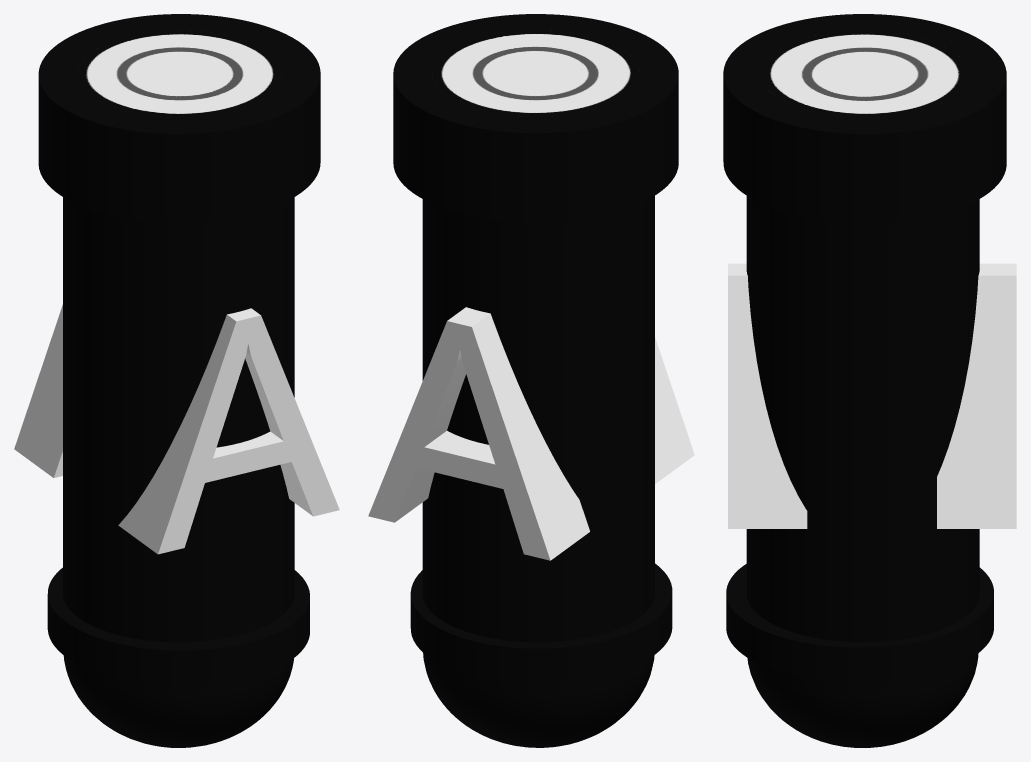
File: Multiple Choice A.fbx
3 renders of one model, left to right at view 1: azimuth 30°, elevation 25°; view 2: azimuth 150°, elevation 25°; view 3: azimuth 270°, elevation 25°, orthographic.
Parts seen in each view (by area): view 1: node_id32, node_id34, node_id95, node_id36, node_id30, node_id110; view 2: node_id32, node_id34, node_id110, node_id36, node_id30, node_id95; view 3: node_id32, node_id34, node_id110, node_id36, node_id95, node_id30.
Part boxes in pixels (x1,y1,x2,y2): node_id32: [63, 197, 294, 692]; node_id34: [38, 14, 320, 222]; node_id95: [118, 308, 339, 554]; node_id36: [47, 567, 309, 685]; node_id30: [63, 655, 293, 747]; node_id110: [14, 304, 62, 477]; node_id32: [422, 196, 654, 692]; node_id34: [393, 14, 678, 222]; node_id110: [368, 307, 589, 560]; node_id36: [410, 563, 672, 683]; node_id30: [423, 653, 654, 747]; node_id95: [655, 337, 694, 483]; node_id32: [746, 196, 979, 692]; node_id34: [723, 14, 1006, 223]; node_id110: [937, 263, 1016, 528]; node_id36: [726, 564, 993, 682]; node_id95: [728, 263, 807, 528]; node_id30: [747, 653, 978, 747].
Bounding box in the file's own units: 5.24 × 13.46 × 5.4.
Materials: 5 (1 with a texture image).
